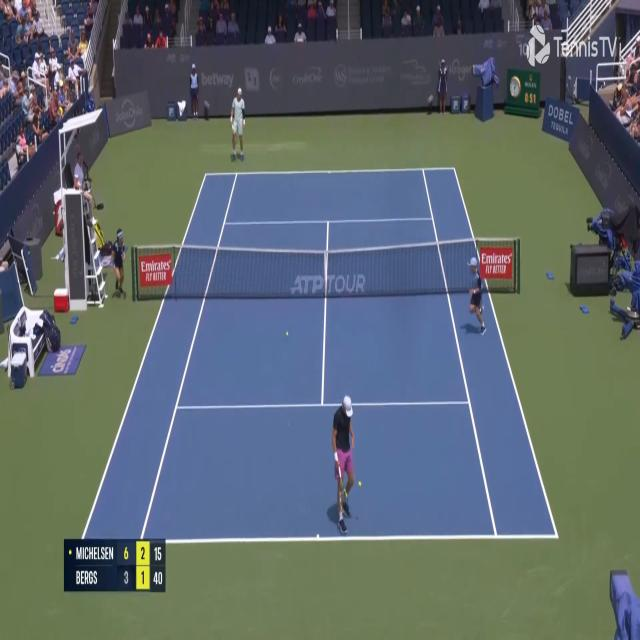tennis-player: (327, 391, 362, 536), (229, 84, 246, 163)
